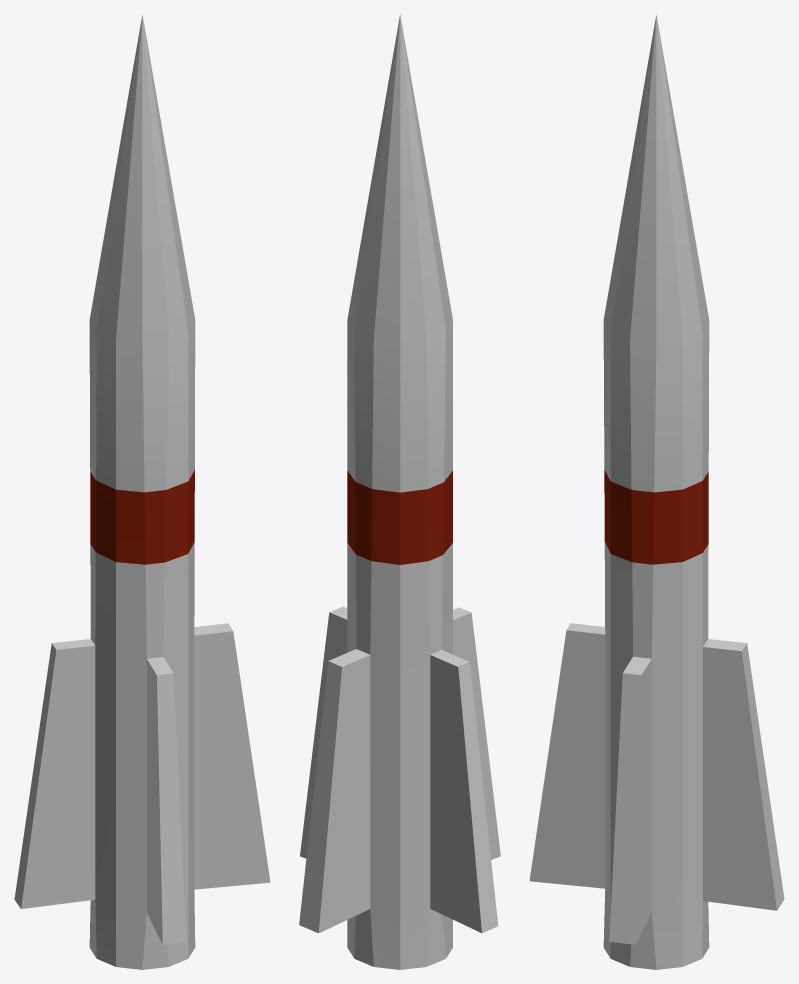
Rendered from missile coloured.fbx.
The picture shows the model from 3 angles, left to right: view 1: azimuth 30°, elevation 25°; view 2: azimuth 150°, elevation 25°; view 3: azimuth 270°, elevation 25°; orthographic projection.
Visible parts, largest first — view 1: pPipe1; view 2: pPipe1; view 3: pPipe1.
Boxes of the visible parts, x1=… form: pPipe1: x1=14, y1=14, x2=270, y2=969; pPipe1: x1=299, y1=14, x2=500, y2=969; pPipe1: x1=529, y1=14, x2=784, y2=969.
Bounding box in the file's own units: 80.52 × 326 × 80.68.
